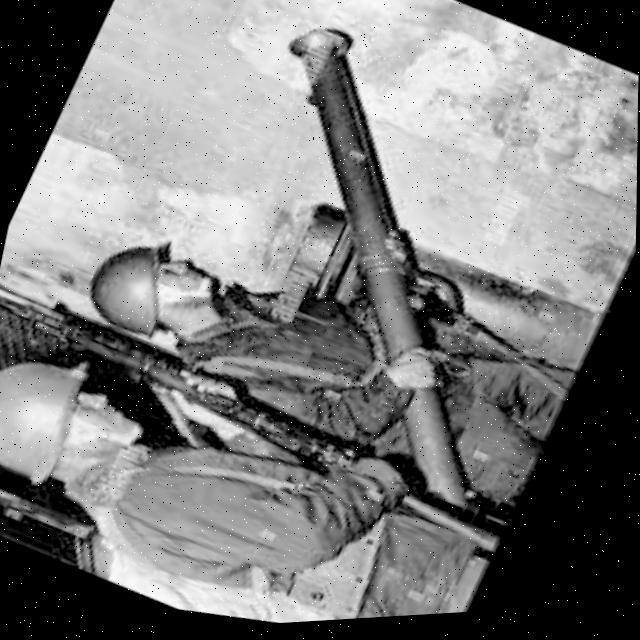rocket: (108, 0, 640, 563)
